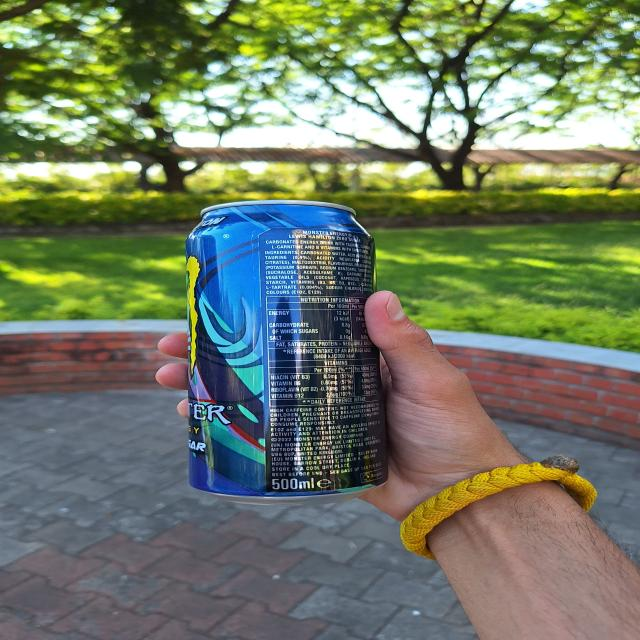Monster LH44: (178, 198, 408, 494)
